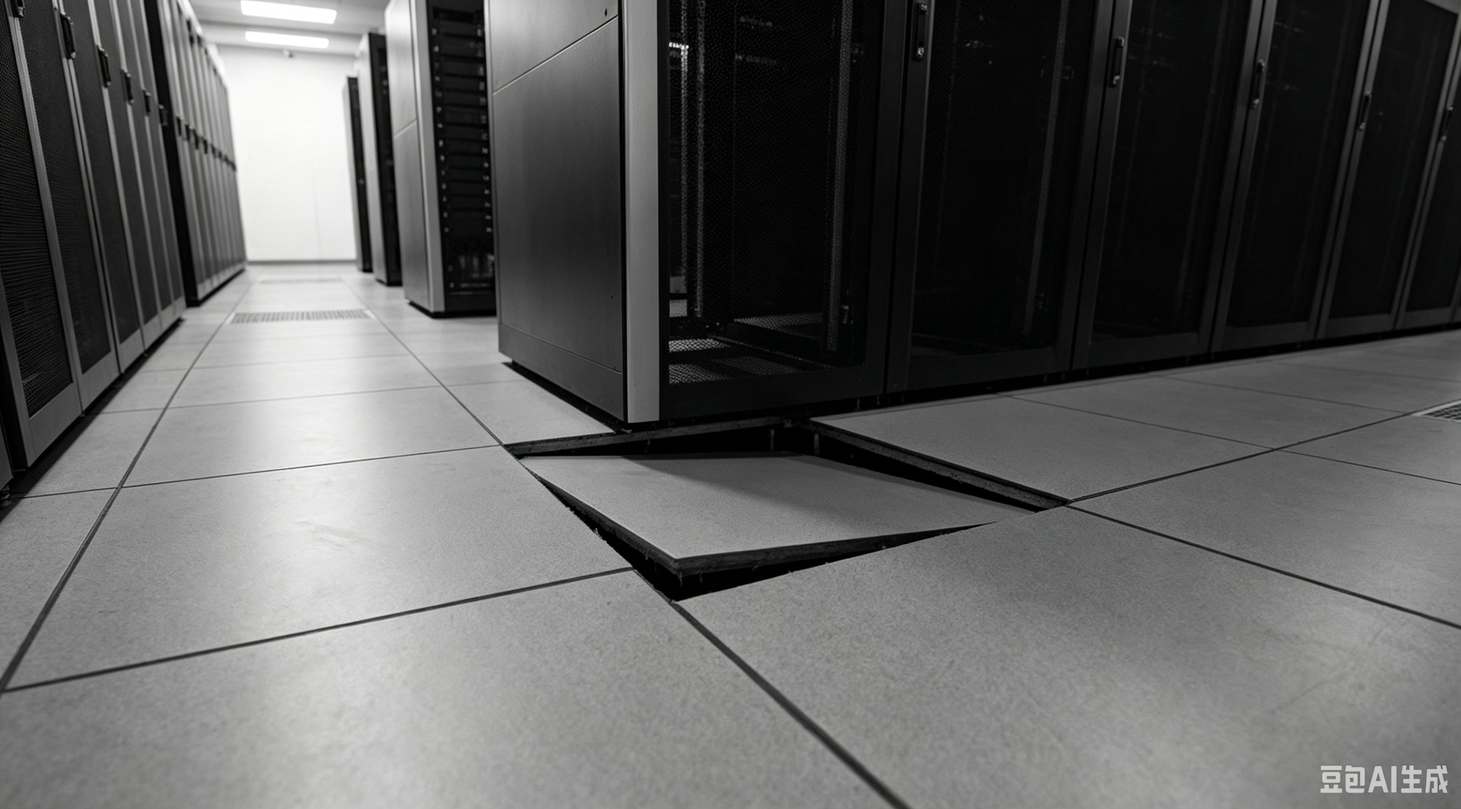floor_defect: (478, 387, 1081, 617)
